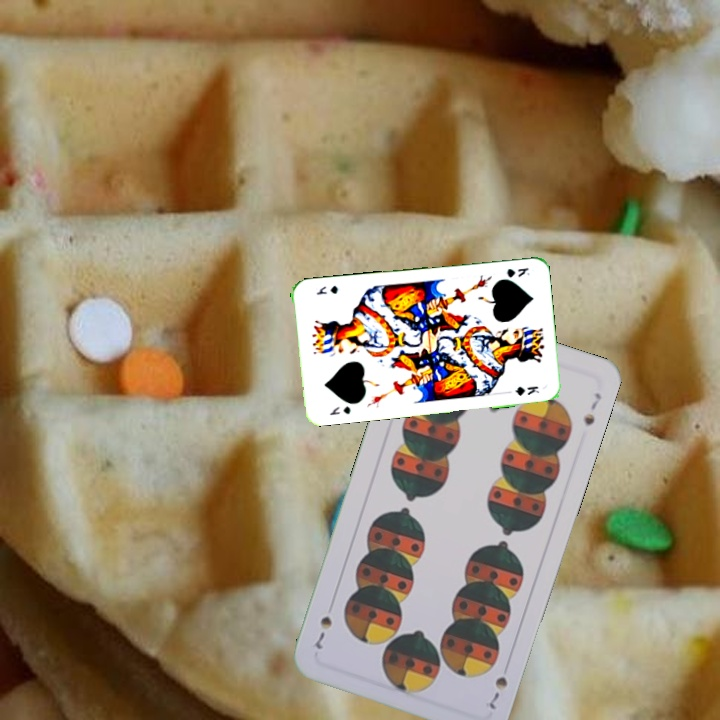GK: (503, 264, 532, 280), (326, 402, 353, 418)
S7: (483, 672, 511, 713)
